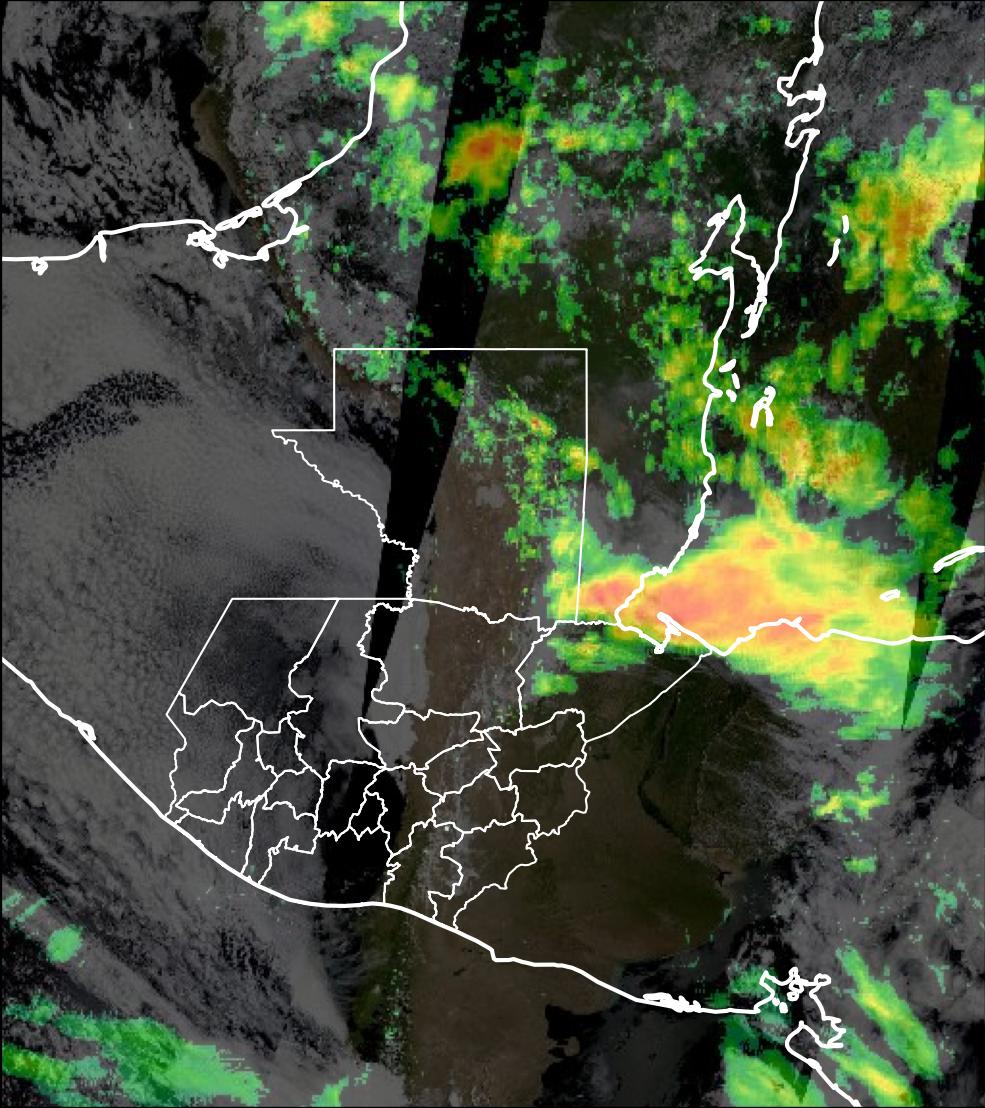precipitacion: (566, 563, 929, 683), (443, 113, 567, 213)
